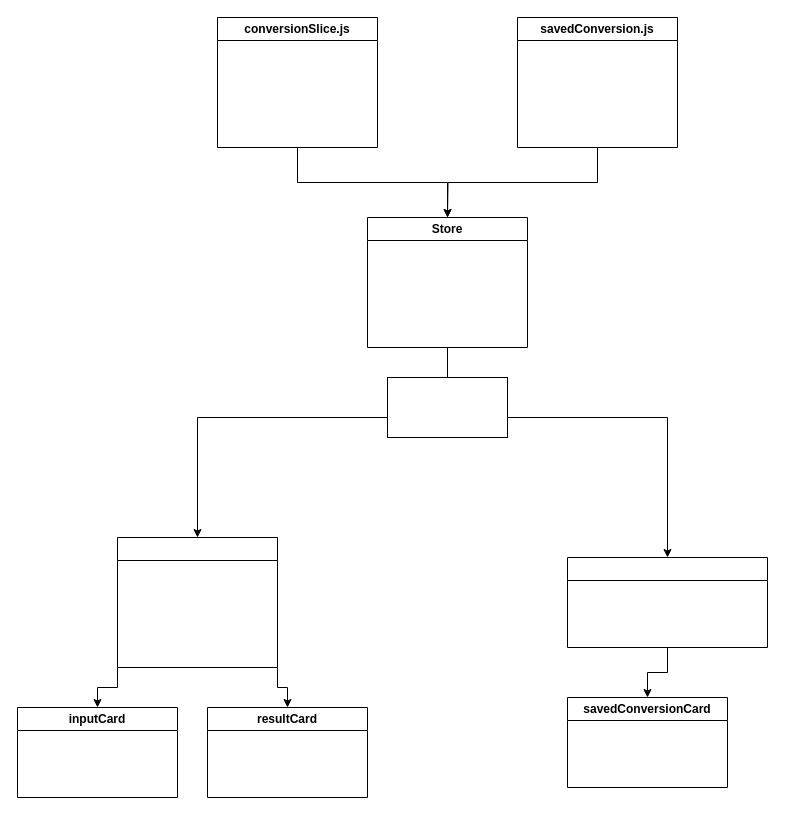
This 785x815 diagram has some shape labels left out. The shapes that lost their labels are listed below. From the top down, each one's centre as x and y in pixels, then its label:
At point 447,407: "app".
At point 197,602: "conversionCard".
At point 667,602: "savedConversionContainer".
